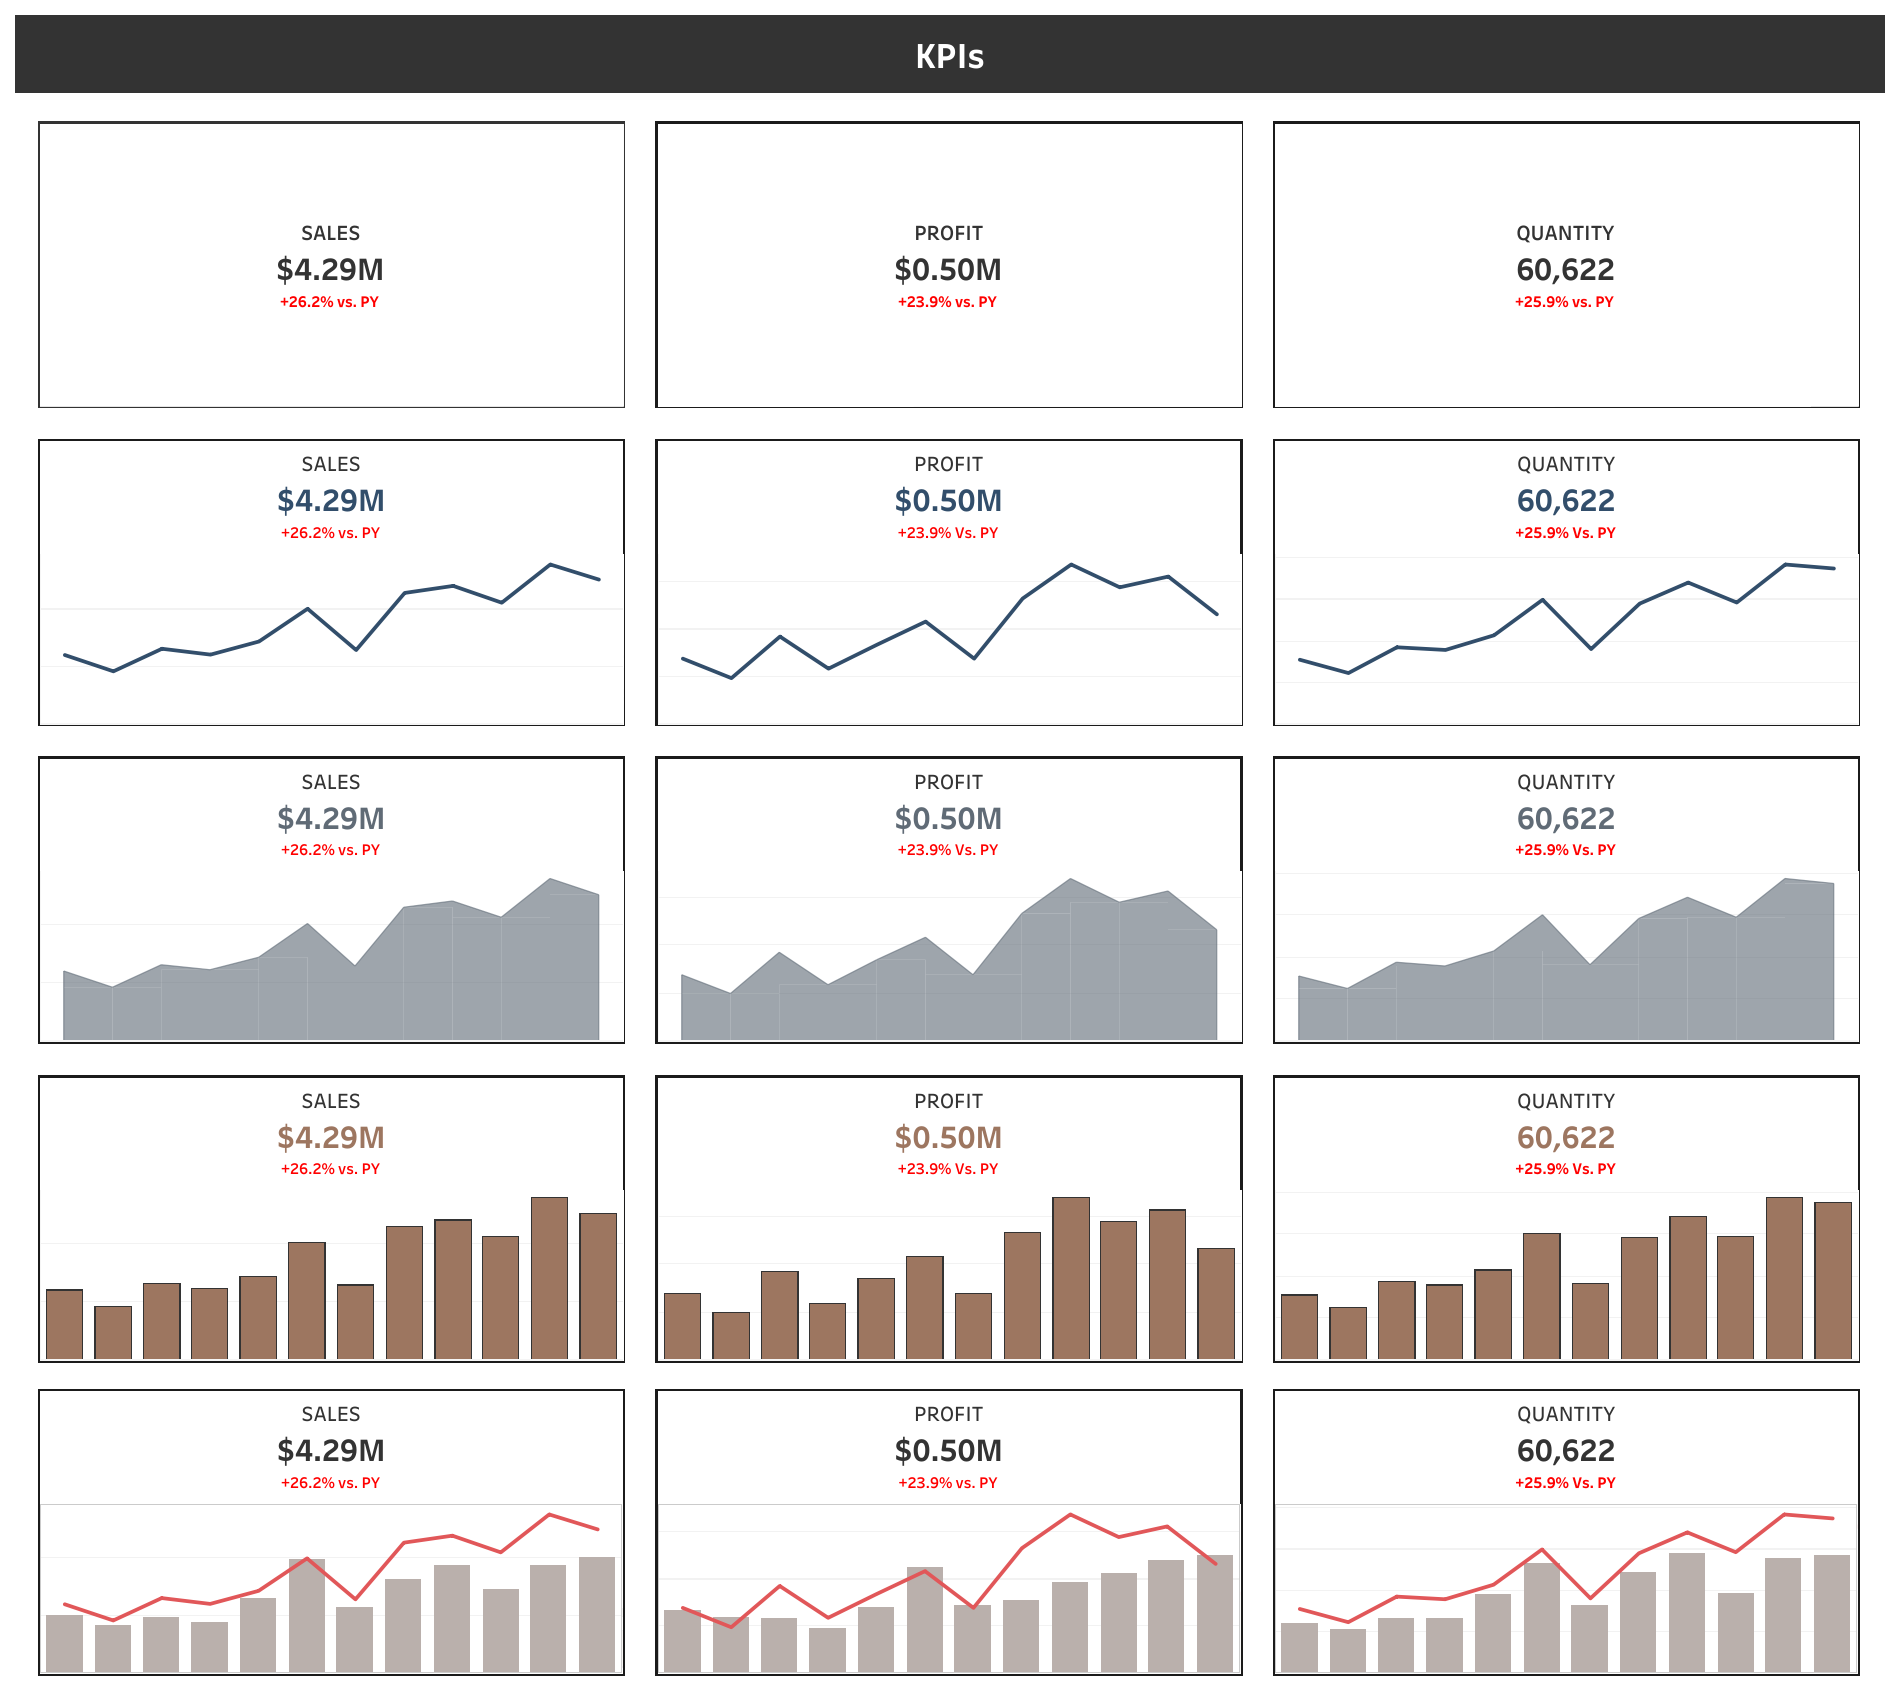

The dashboard page shown, as its layout file describes it:
{"tool":"tableau","page":{"name":"Dashboard 2","canvas":[1000,1000],"units":"permille","ordinal":0},"visuals":[{"type":"title","box":[5.3,5.9,989.5,51.5]},{"type":"worksheet","title":"Sheet 14","mark":"Automatic","box":[19.7,71.3,309.2,168.4]},{"type":"worksheet","title":"Sheet 14 (2)","mark":"Automatic","box":[344.7,71.3,309.2,168.4]},{"type":"worksheet","title":"Sheet 14 (3)","mark":"Automatic","box":[669.7,71.3,309.2,168.4]},{"type":"worksheet","title":"Sheet 2","mark":"Line","rows":["Calculation_1653946976140791814"],"cols":["Order Date"],"box":[19.7,258.1,309.2,169.1]},{"type":"worksheet","title":"Sheet 3","mark":"Line","rows":["CY Sales (copy)_1653946976142770185"],"cols":["Order Date"],"box":[344.7,258.1,309.2,169.1]},{"type":"worksheet","title":"Sheet 4","mark":"Line","rows":["CY Sales (copy)_1653946976144478221"],"cols":["Order Date"],"box":[669.7,258.1,309.2,169.1]},{"type":"worksheet","title":"Sheet 2 (2)","mark":"Area","rows":["Calculation_1653946976140791814"],"cols":["Order Date"],"box":[19.7,444.9,309.2,169.1]},{"type":"worksheet","title":"Sheet 3 (2)","mark":"Area","rows":["CY Sales (copy)_1653946976142770185"],"cols":["Order Date"],"box":[344.7,444.9,309.2,169.1]},{"type":"worksheet","title":"Sheet 4 (2)","mark":"Area","rows":["CY Sales (copy)_1653946976144478221"],"cols":["Order Date"],"box":[669.7,444.9,309.2,169.1]},{"type":"worksheet","title":"Sheet 2 (3)","mark":"Bar","rows":["Calculation_1653946976140791814"],"cols":["Order Date"],"box":[19.7,632.4,309.2,169.1]},{"type":"worksheet","title":"Sheet 3 (3)","mark":"Bar","rows":["CY Sales (copy)_1653946976142770185"],"cols":["Order Date"],"box":[344.7,632.4,309.2,169.1]},{"type":"worksheet","title":"Sheet 4 (3)","mark":"Bar","rows":["CY Sales (copy)_1653946976144478221"],"cols":["Order Date"],"box":[669.7,632.4,309.2,169.1]},{"type":"worksheet","title":"Sheet 2 (4)","mark":"Line","rows":["CY Sales (copy)_1653946976140992519","Calculation_1653946976140791814"],"cols":["Order Date"],"box":[19.7,816.9,309.2,169.1]},{"type":"worksheet","title":"Sheet 3 (4)","mark":"Area","rows":["PY Sales  (copy)_1653946976143122442","CY Sales (copy)_1653946976142770185"],"cols":["Order Date"],"box":[344.7,816.9,309.2,169.1]},{"type":"worksheet","title":"Sheet 4 (4)","mark":"Area","rows":["CY Quantity Ord. (copy)_1653946976144678926","CY Sales (copy)_1653946976144478221"],"cols":["Order Date"],"box":[669.7,816.9,309.2,169.1]}]}

Visuals, with their boxes on the dashboard's canvas, which has no fixed pixel size, in thousandths of its width and height (x1, y1, x2, y2). These are canvas units, not pixel positions in the 1899x1699 screenshot, which may show the page scaled, cropped or inside an application window:
title: 5:6:995:57
"Sheet 14" worksheet: 20:71:329:240
"Sheet 14 (2)" worksheet: 345:71:654:240
"Sheet 14 (3)" worksheet: 670:71:979:240
"Sheet 2" worksheet (Line marks): 20:258:329:427
"Sheet 3" worksheet (Line marks): 345:258:654:427
"Sheet 4" worksheet (Line marks): 670:258:979:427
"Sheet 2 (2)" worksheet (Area marks): 20:445:329:614
"Sheet 3 (2)" worksheet (Area marks): 345:445:654:614
"Sheet 4 (2)" worksheet (Area marks): 670:445:979:614
"Sheet 2 (3)" worksheet (Bar marks): 20:632:329:802
"Sheet 3 (3)" worksheet (Bar marks): 345:632:654:802
"Sheet 4 (3)" worksheet (Bar marks): 670:632:979:802
"Sheet 2 (4)" worksheet (Line marks): 20:817:329:986
"Sheet 3 (4)" worksheet (Area marks): 345:817:654:986
"Sheet 4 (4)" worksheet (Area marks): 670:817:979:986
